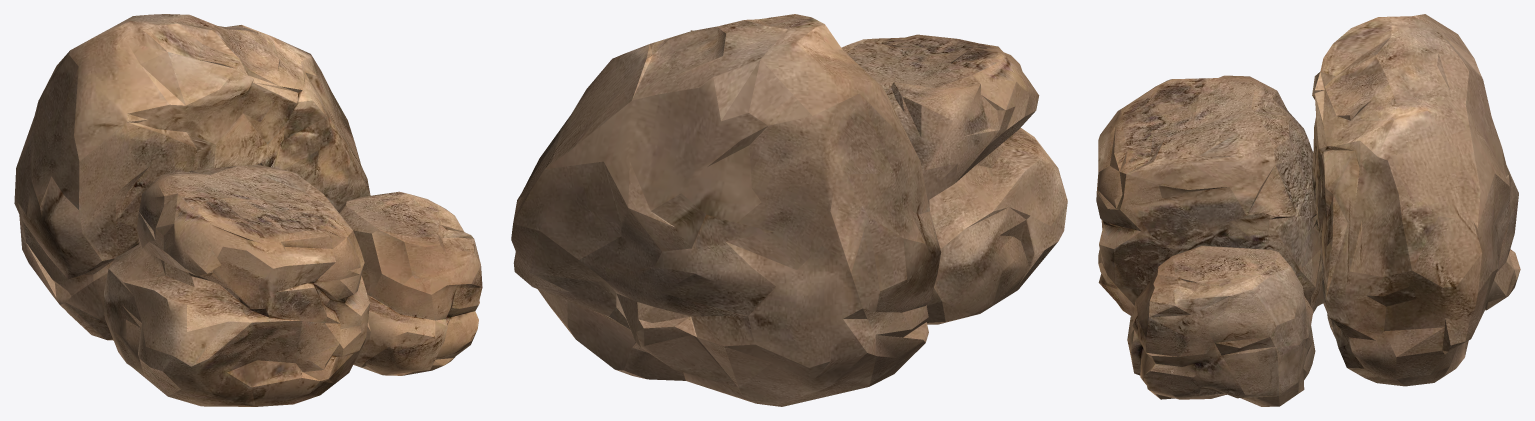
The model's file is rock.glb.
3 renders of one model, left to right at view 1: azimuth 30°, elevation 25°; view 2: azimuth 150°, elevation 25°; view 3: azimuth 270°, elevation 25°, orthographic. The views are drawn at different scales.
Size of the model in its own units: 1.73 by 1.46 by 1.9.
1 material, 1 textured.
